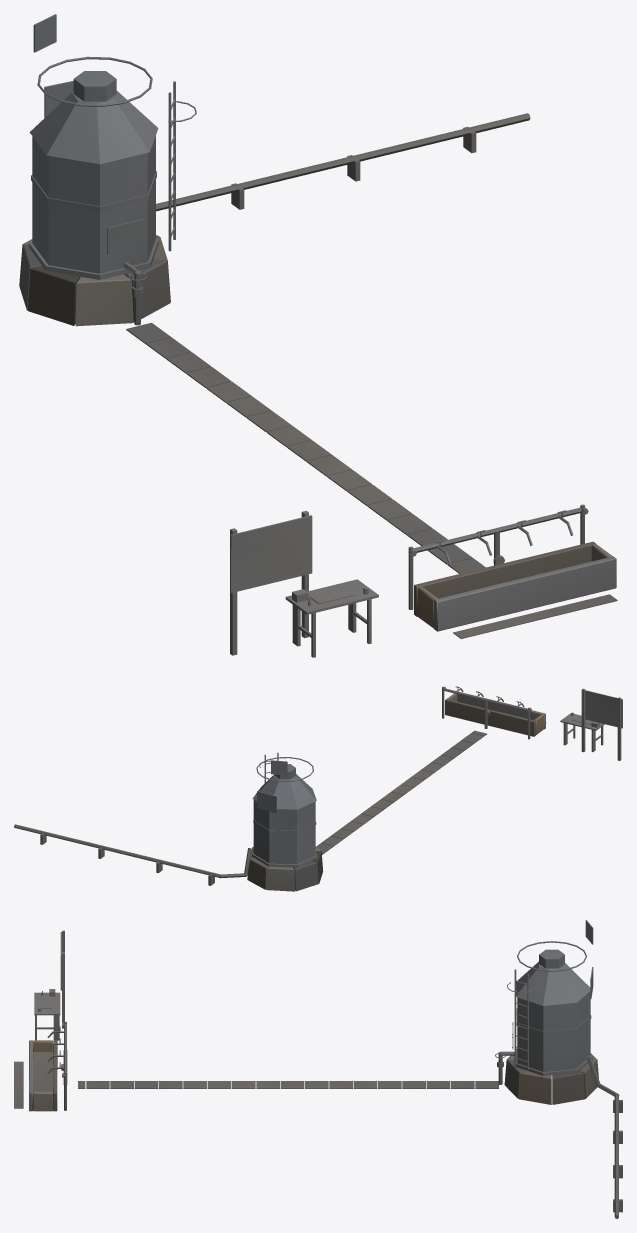
Rendered from WL_WaterPoint_LOD1.glb.
3 renders of one model, top to bottom at view 1: azimuth 30°, elevation 25°; view 2: azimuth 150°, elevation 25°; view 3: azimuth 270°, elevation 25°, orthographic. The views are drawn at different scales.
Parts seen in each view (by area): view 1: WL_WaterPoint_Metal_LOD1, WL_WaterPoint_Masonry_LOD1; view 2: WL_WaterPoint_Metal_LOD1, WL_WaterPoint_Masonry_LOD1; view 3: WL_WaterPoint_Metal_LOD1, WL_WaterPoint_Masonry_LOD1, WL_WaterPoint_Sand_LOD1.
Part boxes in pixels (x1,y1,x2,y2): WL_WaterPoint_Metal_LOD1: [29, 14, 617, 657]; WL_WaterPoint_Masonry_LOD1: [19, 235, 616, 631]; WL_WaterPoint_Metal_LOD1: [14, 686, 622, 885]; WL_WaterPoint_Masonry_LOD1: [247, 693, 545, 891]; WL_WaterPoint_Metal_LOD1: [14, 920, 622, 1218]; WL_WaterPoint_Masonry_LOD1: [29, 1040, 598, 1111]; WL_WaterPoint_Sand_LOD1: [33, 1052, 53, 1091].
Bounding box in the file's own units: 13.05 × 4.23 × 15.02.
